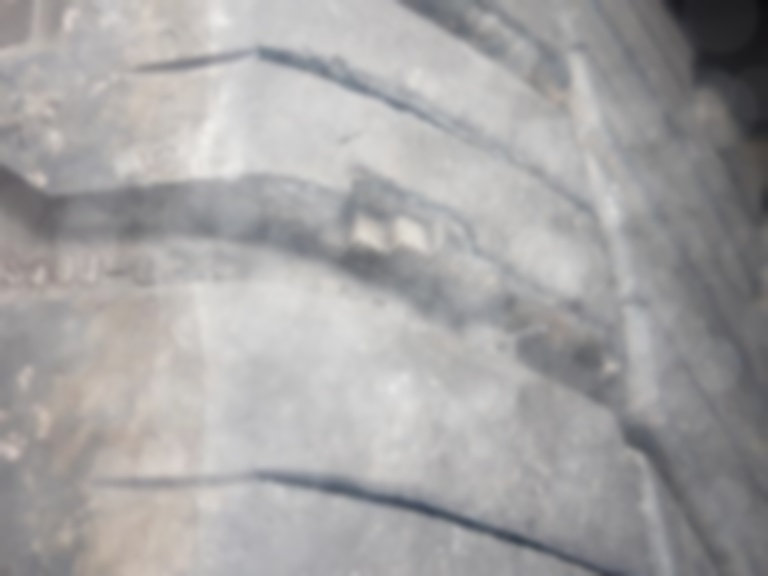temoin:80: (300, 153, 515, 318)
